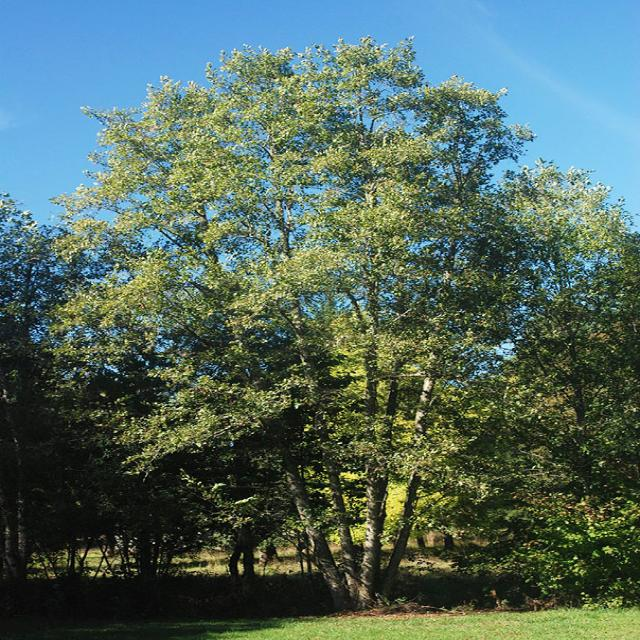Alnus rhombifolia: (69, 40, 556, 618)
